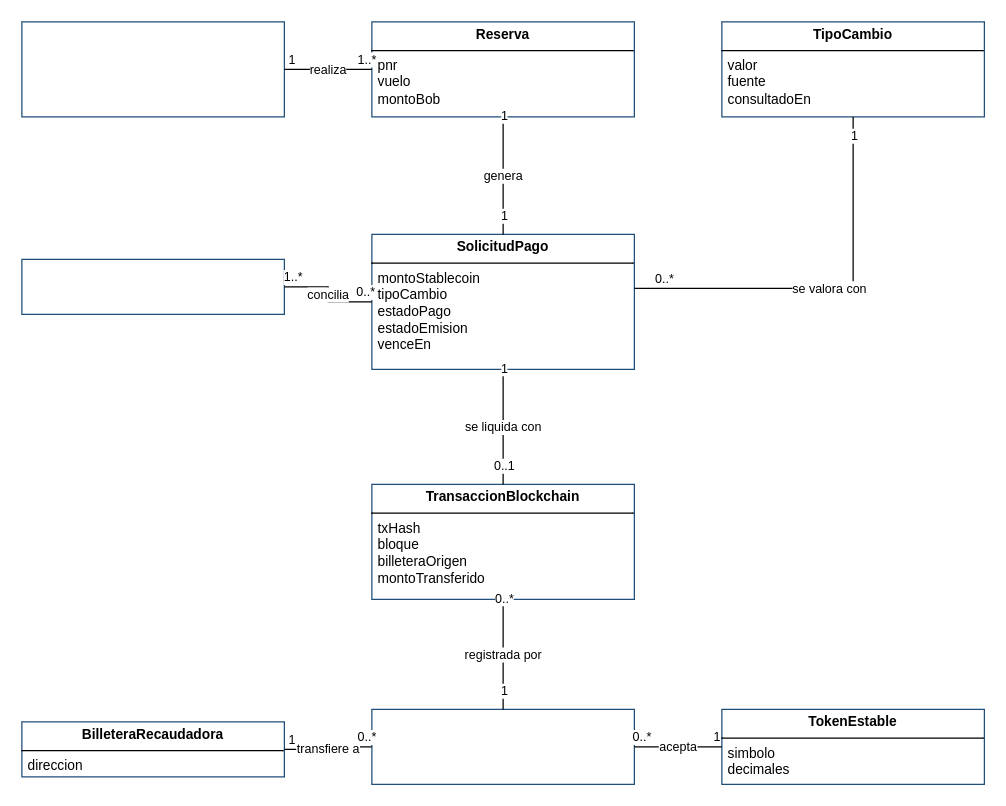
Some shapes in this 1006 by 806 pixel diagram are drawn without their labels. Here are the shapes that lost their labels. From the top down, the box of each, then its label:
(21, 21, 284, 117): Pasajero nombreCompleto documento correo
(21, 258, 284, 314): UsuarioFinanzas usuario
(371, 708, 634, 784): ContratoPago direccion cuentaOperadora
